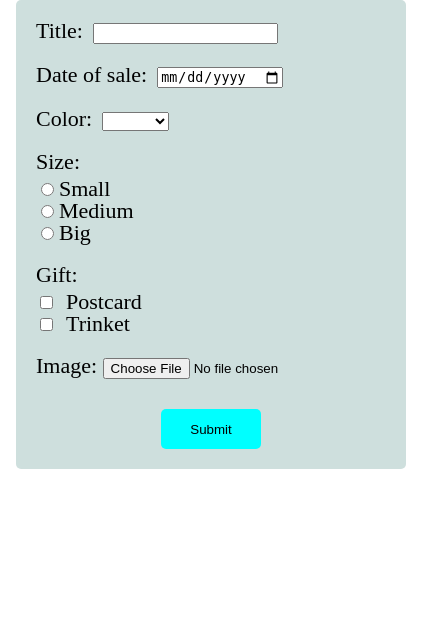
Test: Form › should show error messages for invalid data
The width and height of the screenshot is (423, 618).
Click the button "Submit". click: (211, 429)
box: [161,409,261,449]
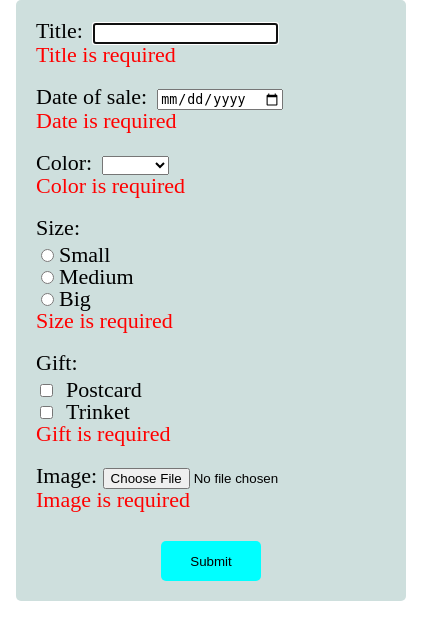
Expected: the text "Title is required" is shown, [36,42,176,67]
Expected: the text "Date is required" is shown, [36,108,176,133]
Expected: the text "Color is required" is shown, [36,173,185,198]
